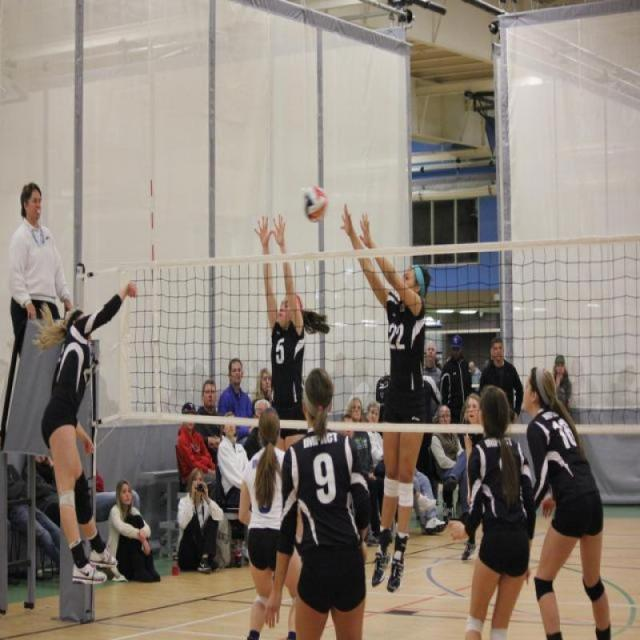volleyball: (300, 183, 328, 223)
